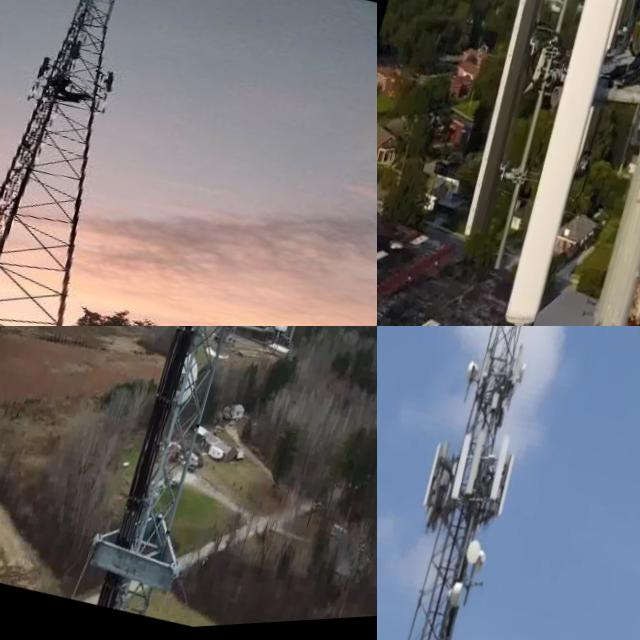GSM Antenna: (486, 0, 640, 326), (437, 0, 606, 252), (414, 439, 448, 520), (458, 428, 491, 508), (482, 434, 515, 513), (443, 431, 476, 508), (488, 457, 517, 528), (506, 346, 527, 393), (16, 81, 49, 110), (99, 70, 127, 101), (27, 57, 54, 87), (89, 96, 119, 122)
Microwave Antenna: (165, 348, 206, 424), (458, 352, 485, 399), (460, 537, 484, 576), (443, 581, 467, 616), (511, 361, 531, 397), (471, 548, 487, 577)
